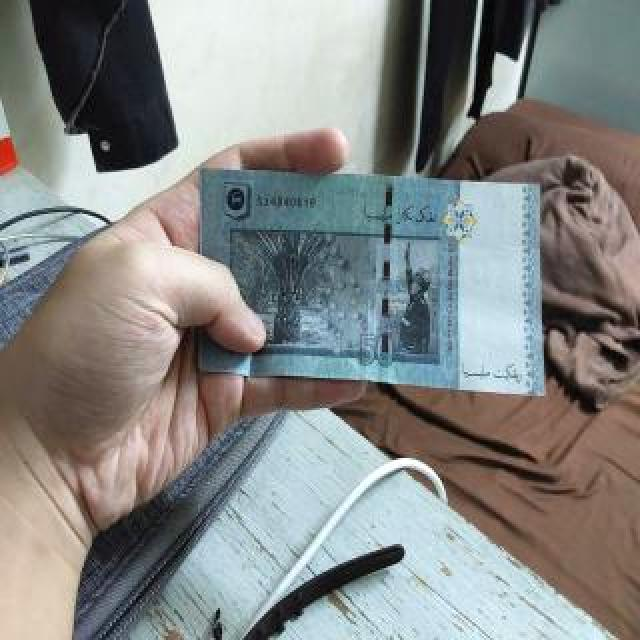50 Ringgit: (190, 162, 551, 408)
